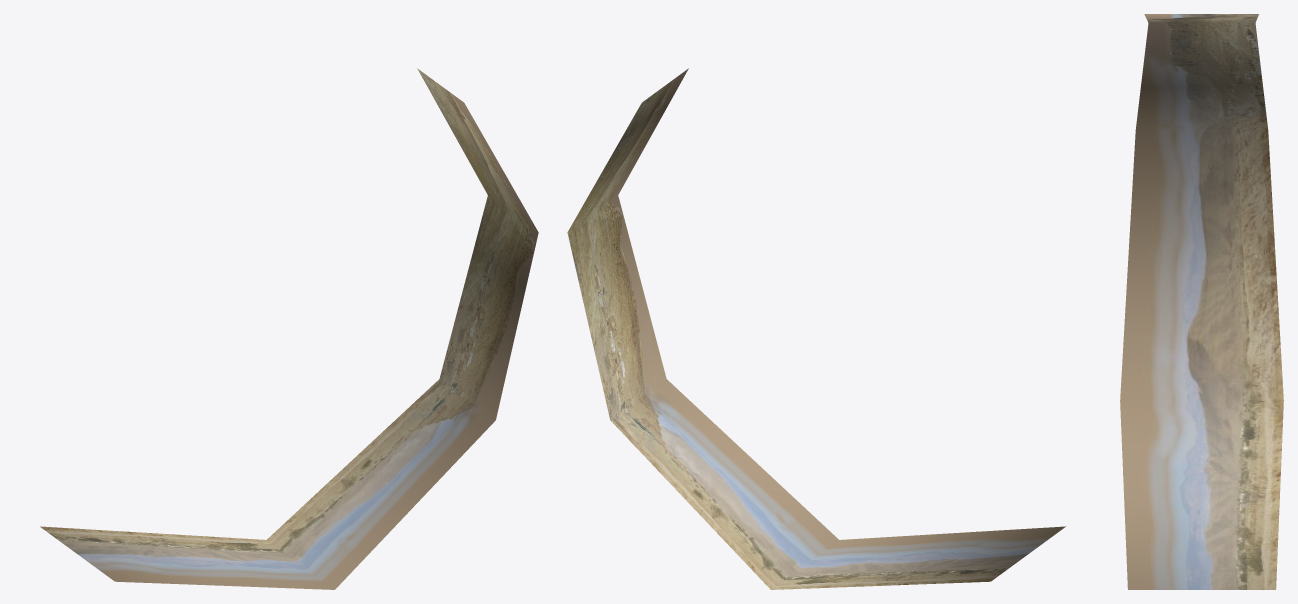
Rendered from backdrop_toujane_card.glb.
The picture shows the model from 3 angles, left to right: view 1: azimuth 30°, elevation 25°; view 2: azimuth 150°, elevation 25°; view 3: azimuth 270°, elevation 25°; orthographic projection. The views are drawn at different scales.
Bounding box in the file's own units: 35746 × 38771 × 9992.
Materials: 4 (4 with a texture image).
